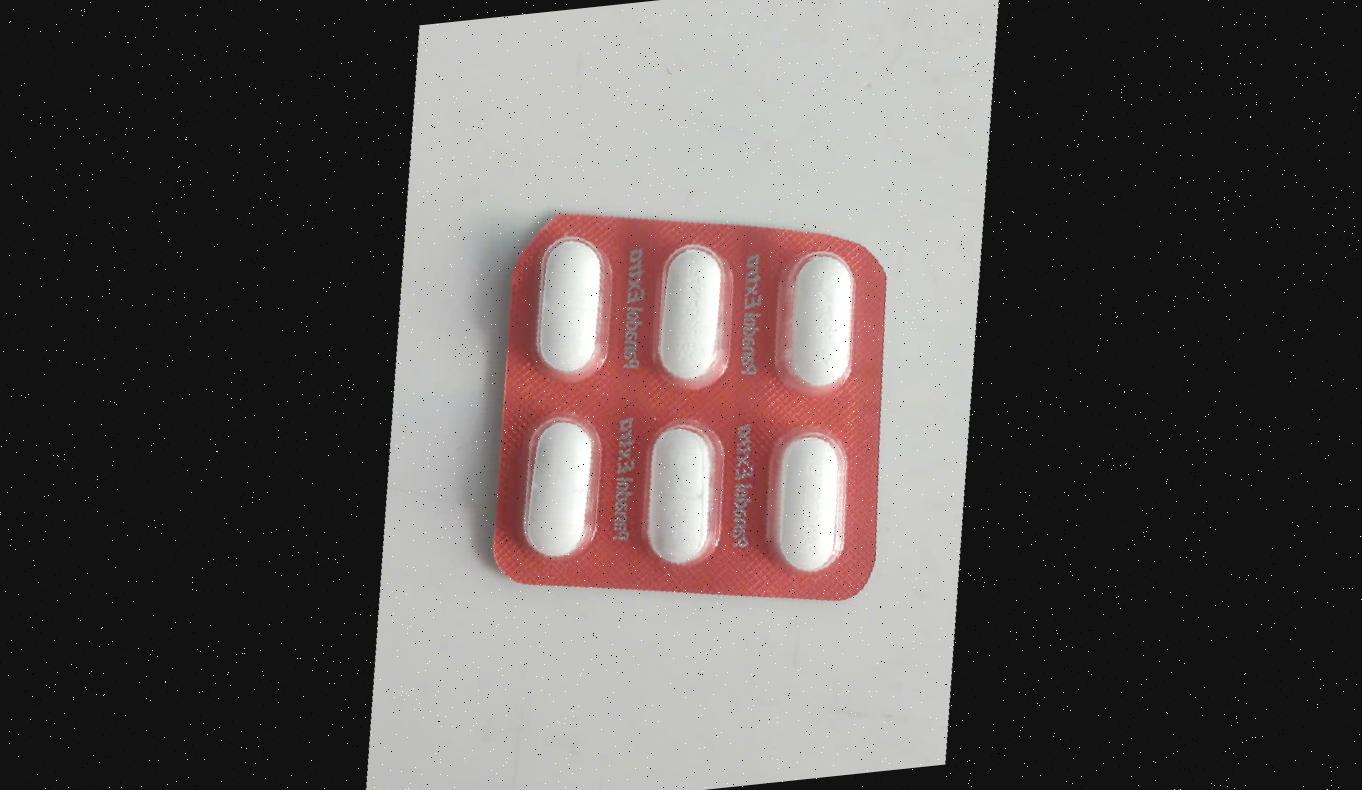Full: (627, 411, 740, 578), (761, 240, 874, 407), (752, 424, 865, 590), (506, 406, 618, 572), (521, 225, 633, 391), (638, 236, 750, 402)
